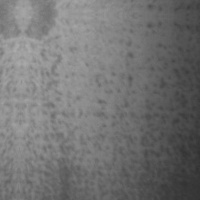pitted_surface: (20, 16, 199, 199)
